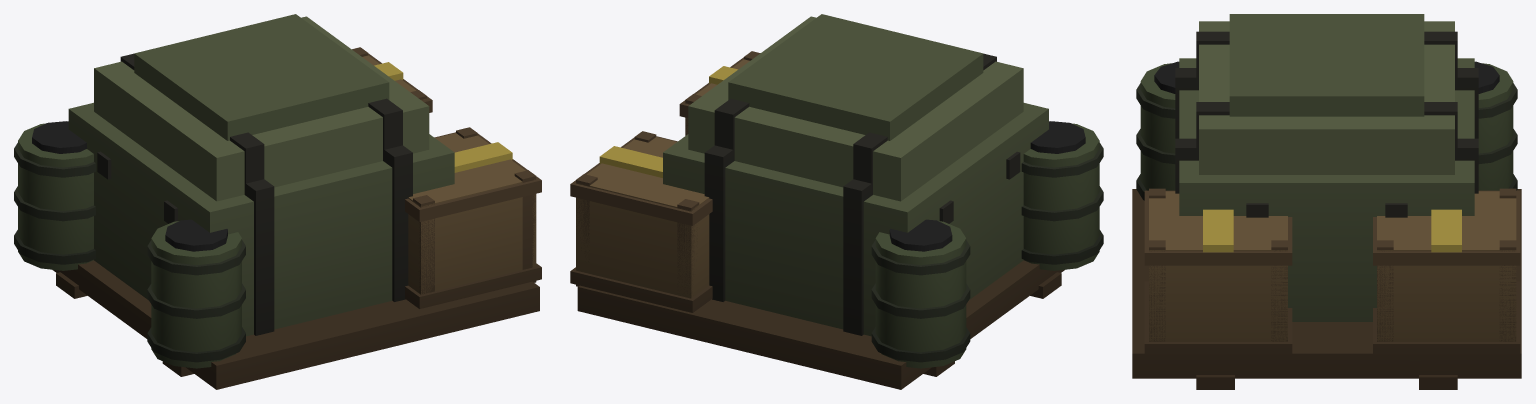
File: m_harv_1ae2b28a.glb
The picture shows the model from 3 angles, left to right: view 1: azimuth 30°, elevation 25°; view 2: azimuth 150°, elevation 25°; view 3: azimuth 270°, elevation 25°; orthographic projection. The views are drawn at different scales.
Visible parts, largest first — view 1: mesh; view 2: mesh; view 3: mesh.
Boxes of the visible parts, x1,y1,x2,y2 form: mesh: [14, 14, 541, 389]; mesh: [570, 14, 1103, 389]; mesh: [1132, 14, 1521, 389].
Size of the model in its own units: 15.9 by 9.45 by 14.
